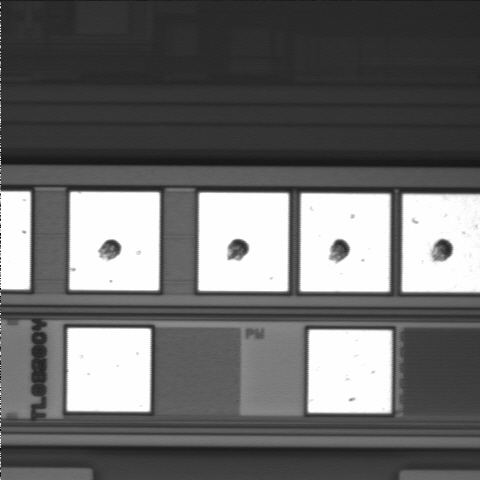pad: (300, 193, 390, 292), (70, 192, 160, 290), (199, 193, 289, 291), (67, 328, 151, 412), (308, 330, 392, 413)
